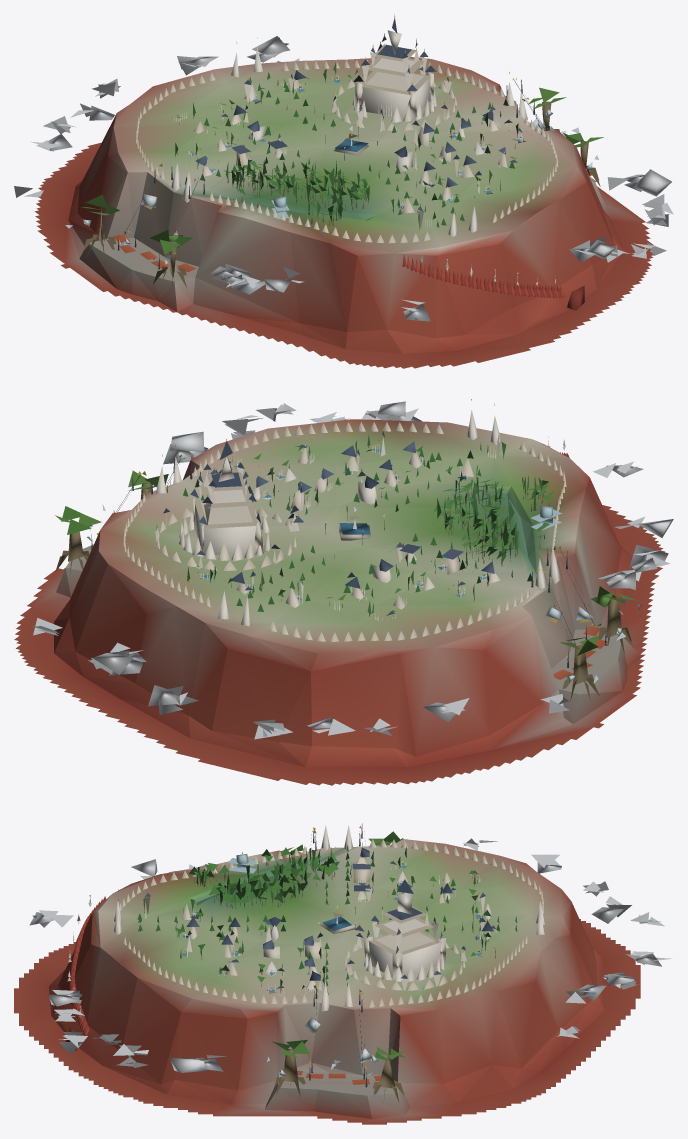
3 views of the same model, one above another, from view 1: azimuth 30°, elevation 25°; view 2: azimuth 150°, elevation 25°; view 3: azimuth 270°, elevation 25° (orthographic). The views are drawn at different scales.
Parts seen in each view (by area): view 1: BASE, VILLE_2; view 2: BASE, VILLE_2; view 3: BASE, VILLE_2.
Part boxes in pixels (x1=…): BASE: x1=14, y1=14, x2=673, y2=368; VILLE_2: x1=194, y1=70, x2=507, y2=213; BASE: x1=14, y1=399, x2=673, y2=785; VILLE_2: x1=210, y1=441, x2=500, y2=609; BASE: x1=14, y1=823, x2=672, y2=1124; VILLE_2: x1=182, y1=847, x2=493, y2=991.
Bounding box in the file's own units: 57.57 × 18.72 × 66.35.
